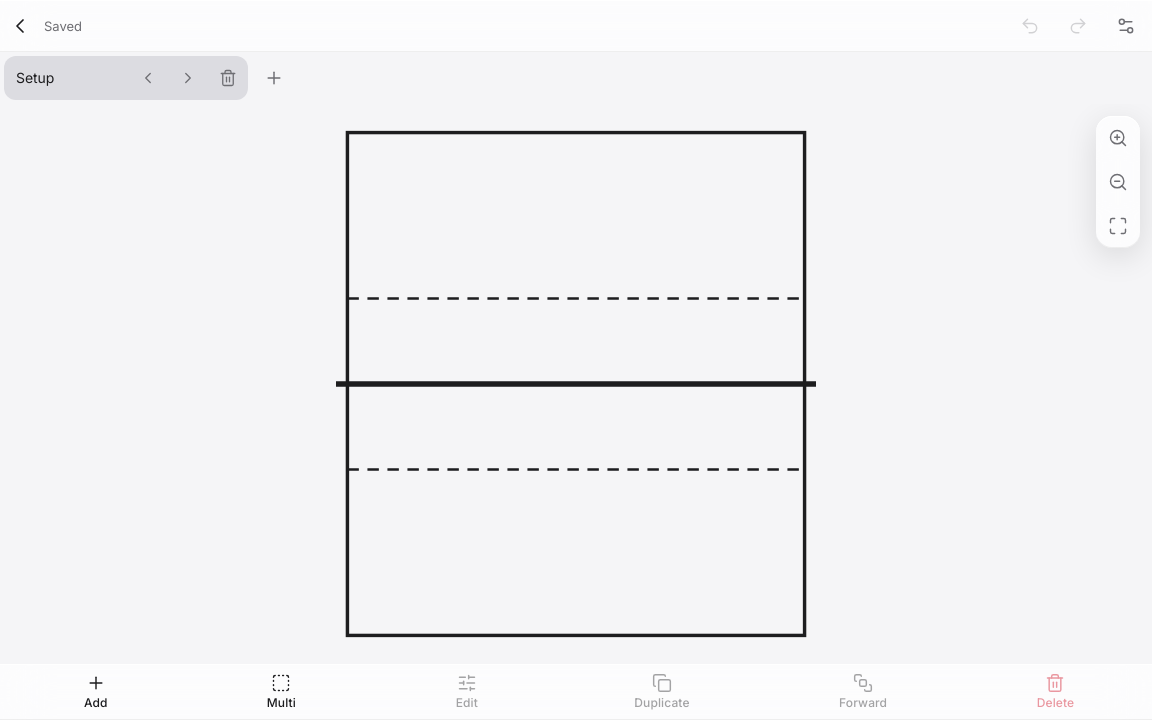
DiagramEditorPage on a phone › adds elements from a bottom panel that closes once an element is placed
Expected: the field showing "Setup" is shown, left=16, top=56, right=128, bottom=100
Expected: the button "Cone" is not shown
Click the button "Add" at [96, 692], box left=72, top=668, right=120, bottom=716
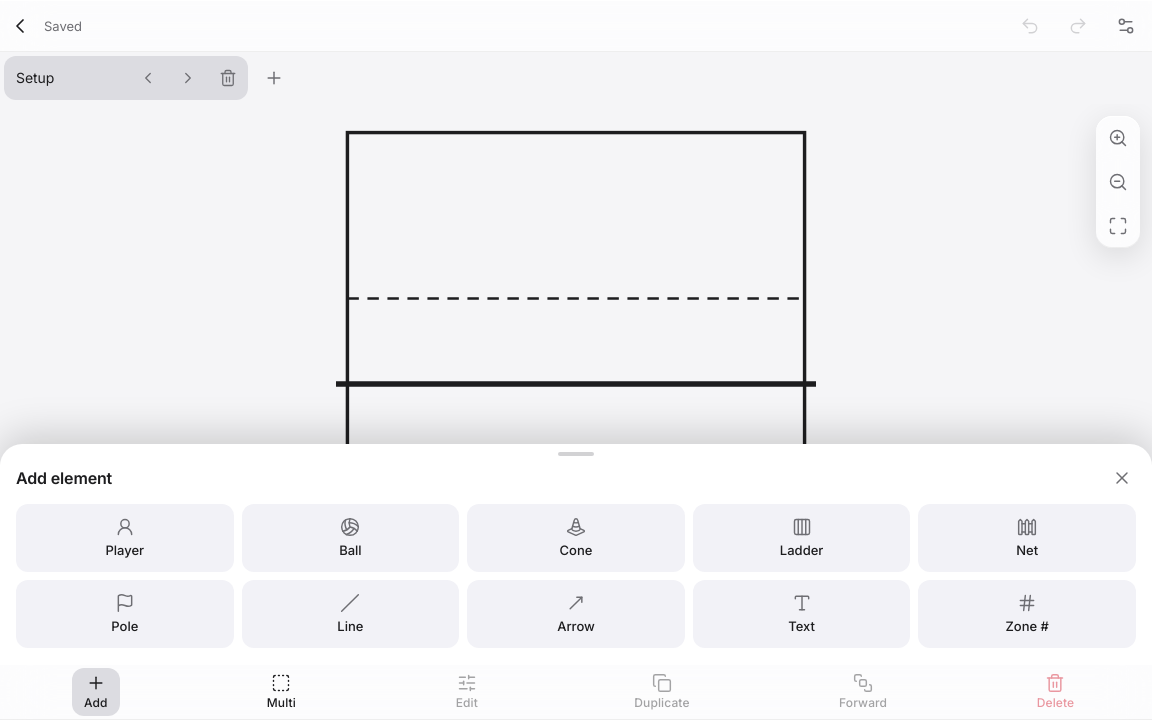
Click the button "Cone" at [576, 538], box left=467, top=504, right=685, bottom=572
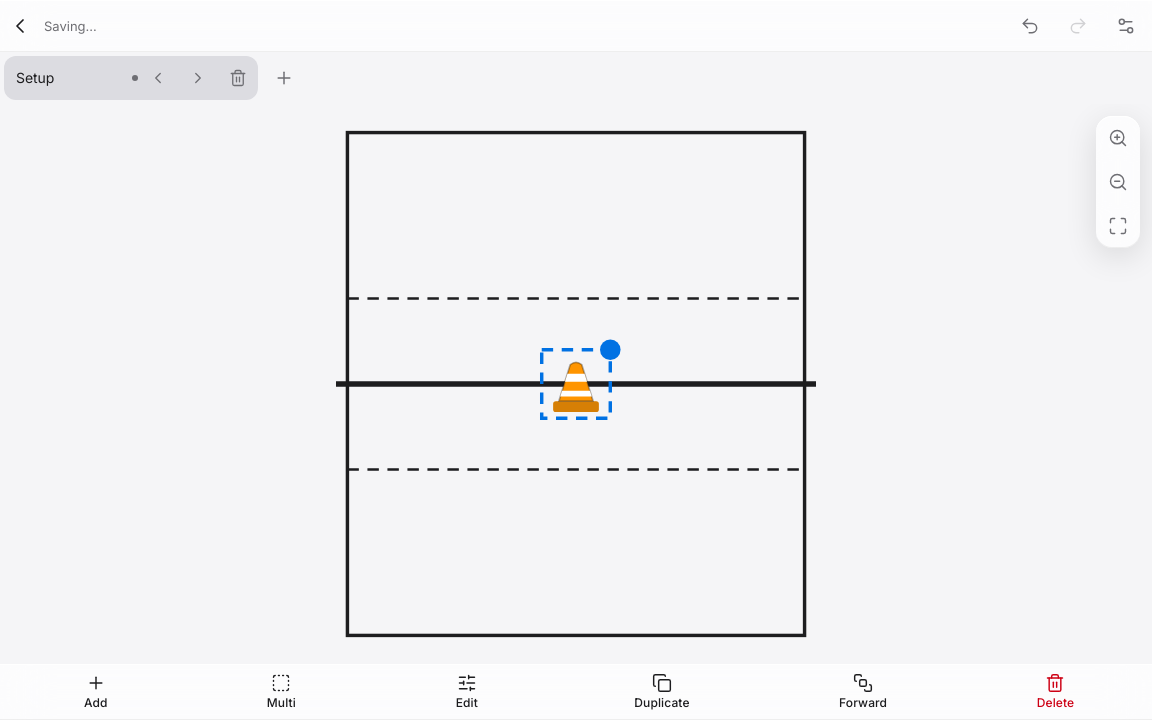
Expected: the heading "Add element" is gone
